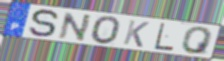K: (122, 19, 152, 49)
L: (153, 22, 175, 52)
N: (57, 11, 94, 42)
O: (90, 15, 122, 46)
Q: (181, 26, 215, 56)
S: (27, 8, 61, 39)
